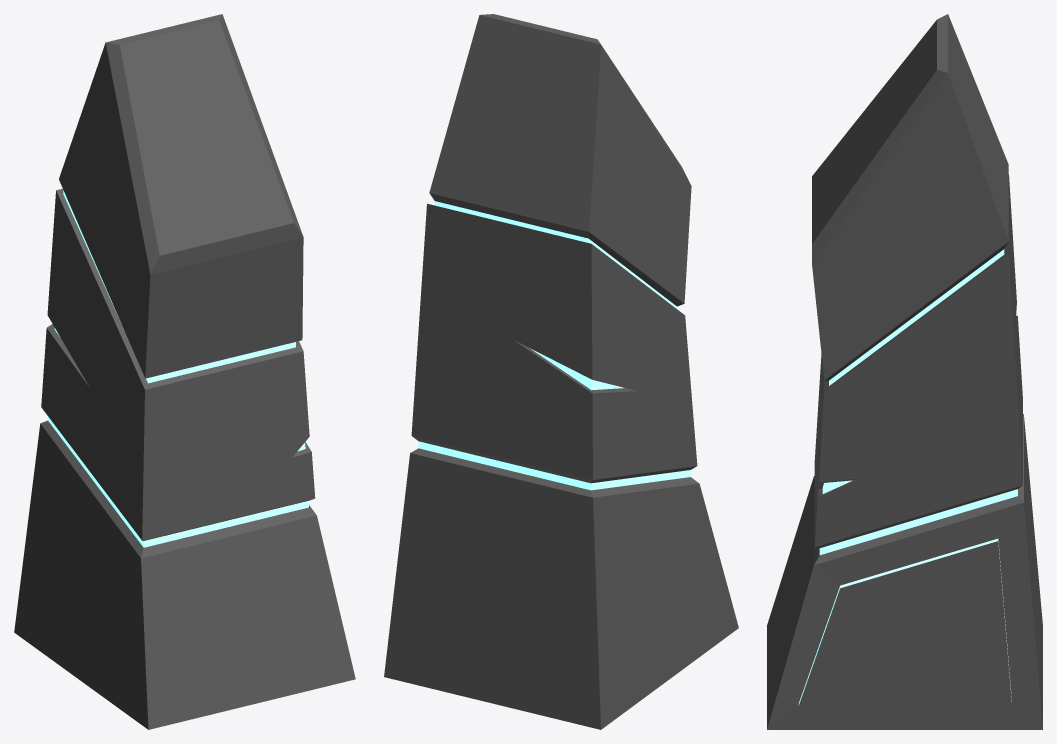
The model's file is AlienRuin1.fbx.
The picture shows the model from 3 angles, left to right: view 1: azimuth 30°, elevation 25°; view 2: azimuth 150°, elevation 25°; view 3: azimuth 270°, elevation 25°; orthographic projection. The views are drawn at different scales.
Parts seen in each view (by area): view 1: Cube; view 2: Cube; view 3: Cube.
Boxes of the visible parts, x1,y1,x2,y2 form: Cube: (14,14,355,729); Cube: (384,14,738,729); Cube: (767,14,1042,729).
Size of the model in its own units: 407 by 1127 by 445.
